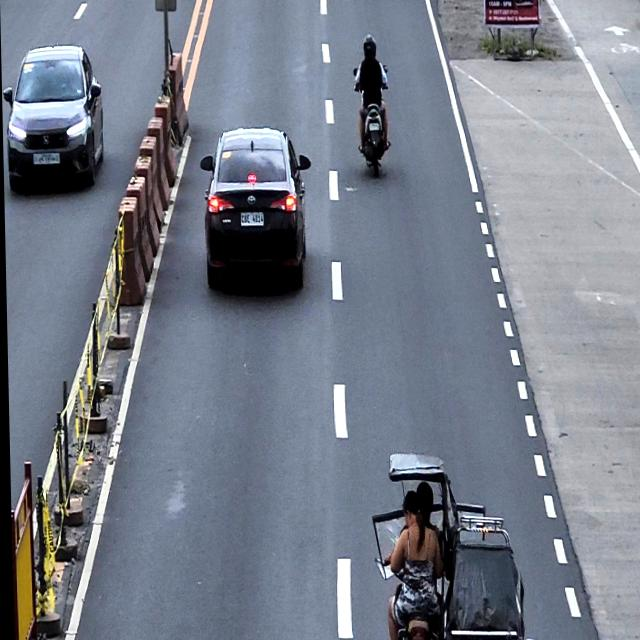Car: (198, 128, 315, 292), (1, 42, 106, 194)
License-Plate: (33, 151, 59, 165), (240, 212, 264, 226), (368, 121, 380, 132)
Motorcycle: (353, 63, 390, 175)
Tricycle: (372, 449, 523, 640)
